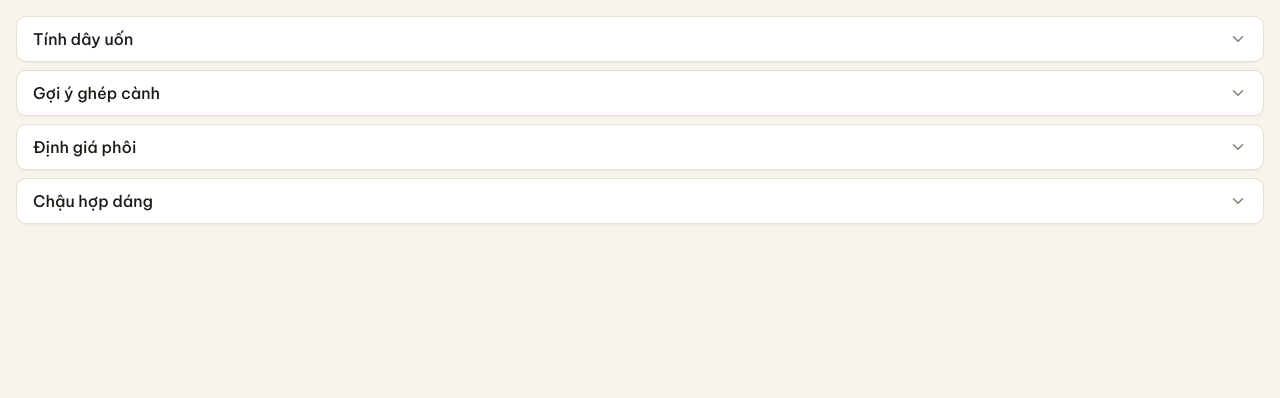
Test case: Tiện ích › tree tools load on demand
Click the heading "Tính dây uốn".
click(83, 39)  # box [33,29,1247,49]
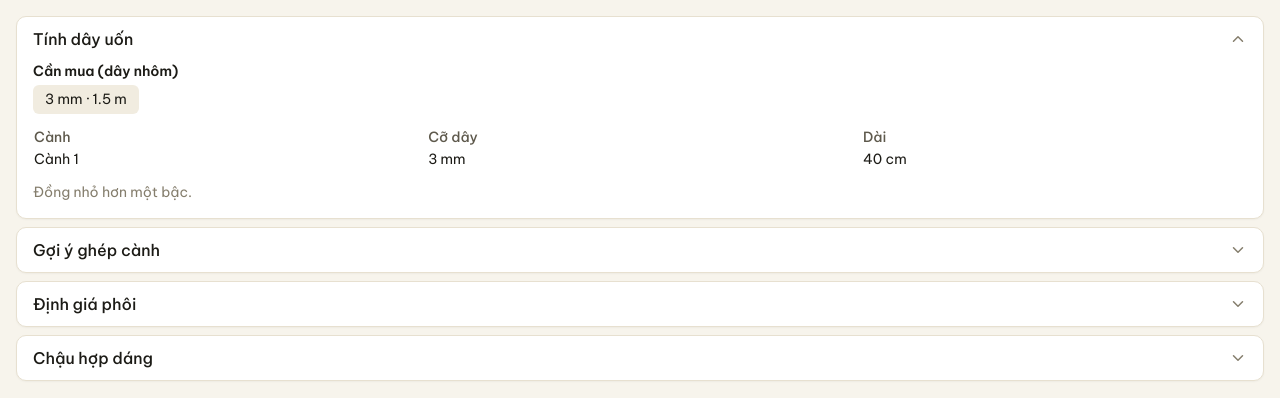
Result: the list item "3 mm · 1.5 m" is shown at [33,85,139,114]
Result: the text "Cành 1" is shown at [33,148,427,170]
